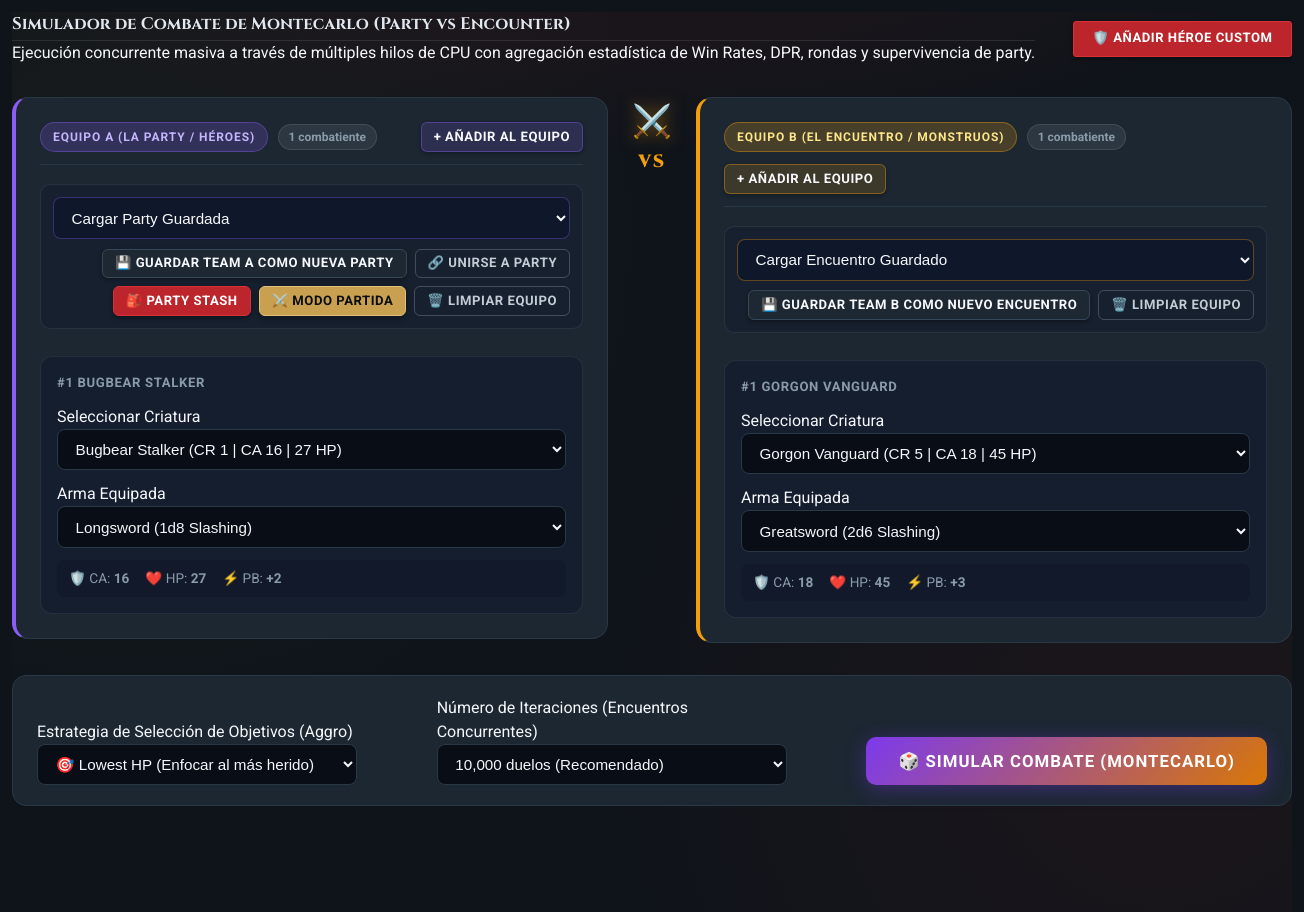
Test case: CombatSimulatorView Component Suite (Party vs Encounter) › clears Team A when clear team button is clicked
Click the button with id "clear-team-a-btn".
click(492, 301)  # box [414, 286, 570, 316]
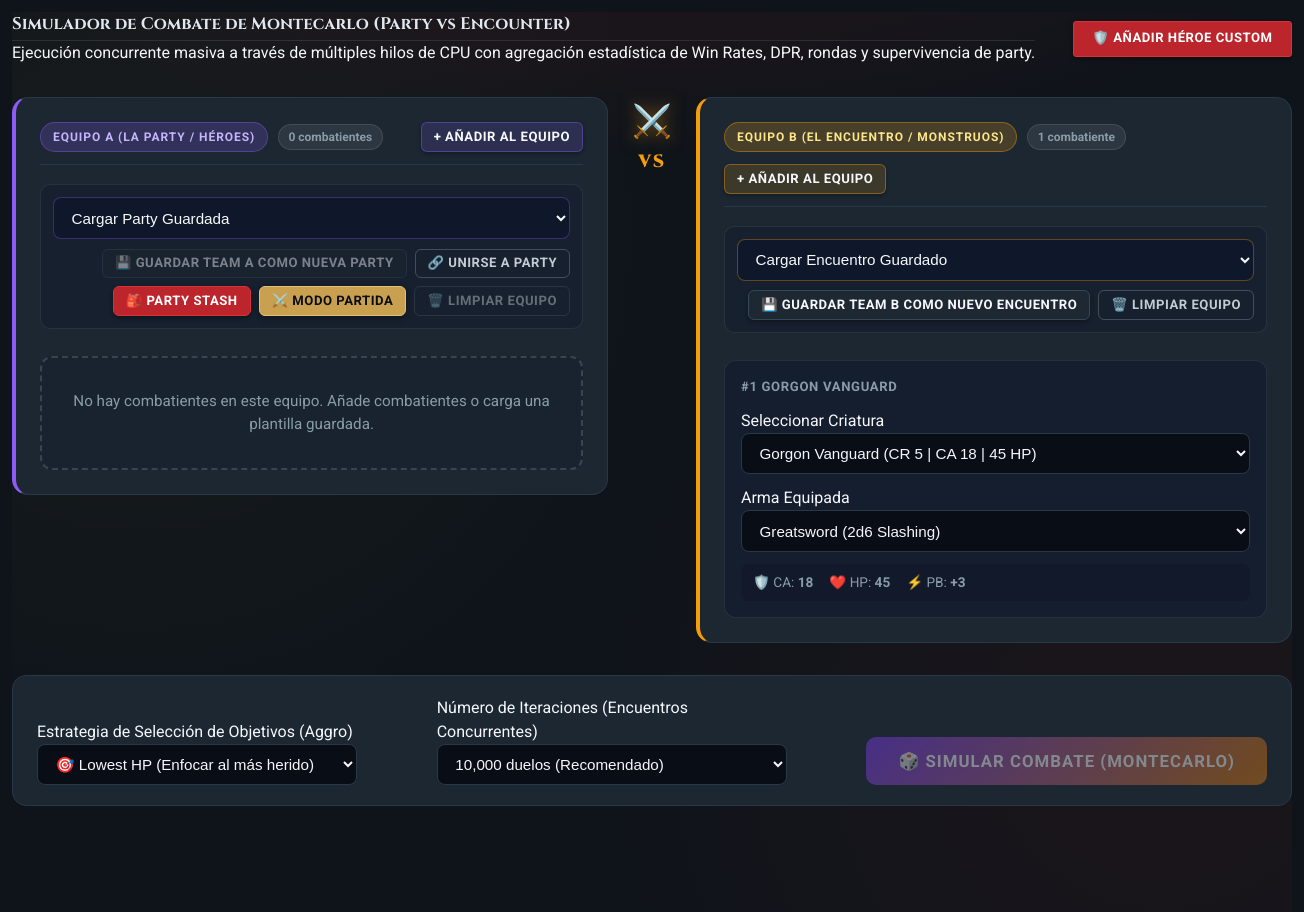
expect the element with id "empty-team-a-placeholder" is shown: met, box [40, 356, 583, 470]
expect the text "No hay combatientes en este equipo" is shown: met, box [73, 392, 550, 433]
